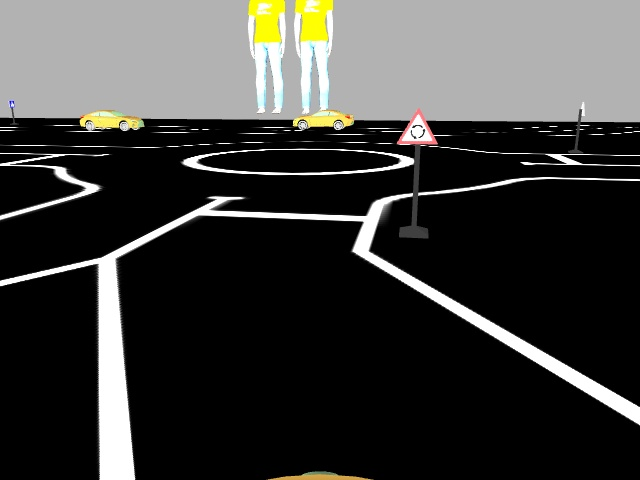Roundabout: (395, 105, 438, 144)
